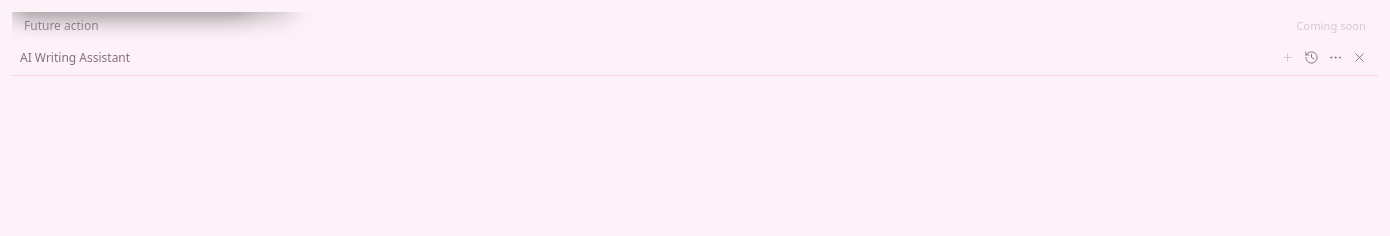
it: Agent reachable UI locale › renders slash commands, mentions, the header skill menu, and disabled menu copy in English
Click the button titled "More options": (1335, 58) [1326,48,1344,66]
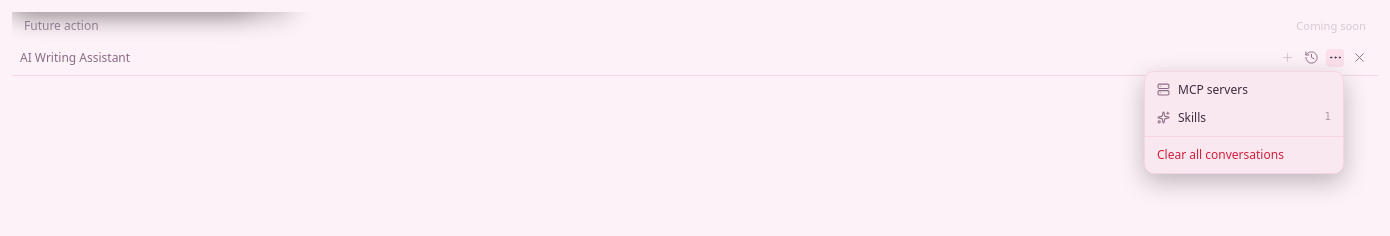
Expected: the button "Skills 1" is shown, [1145,104,1343,132]
Click the button "MCP servers": (1244, 90) [1145,76,1343,104]
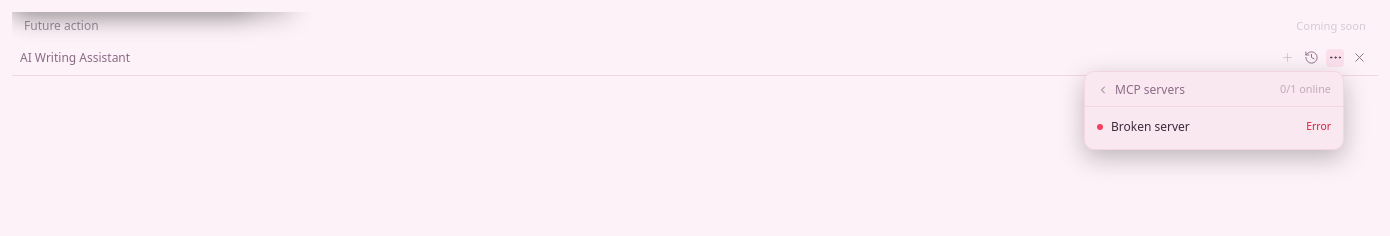
Expected: the text "Error" is shown, [1306,120,1331,134]
Click the button "MCP servers 0/1 online": (1214, 90) [1085,76,1343,104]
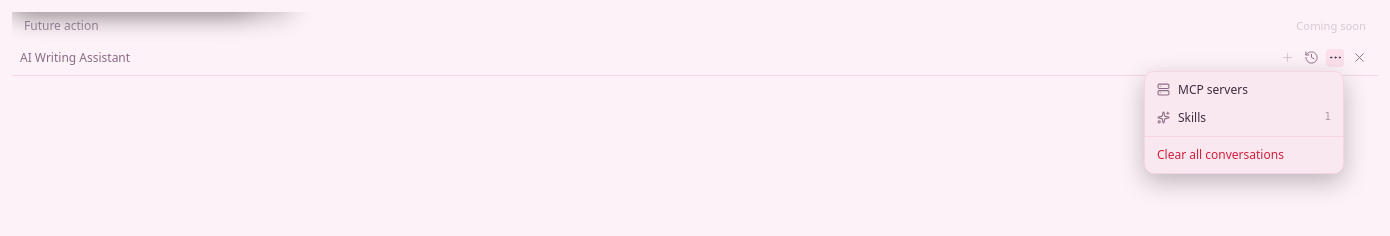
Click the button "Skills 1": (1244, 118) [1145,104,1343,132]
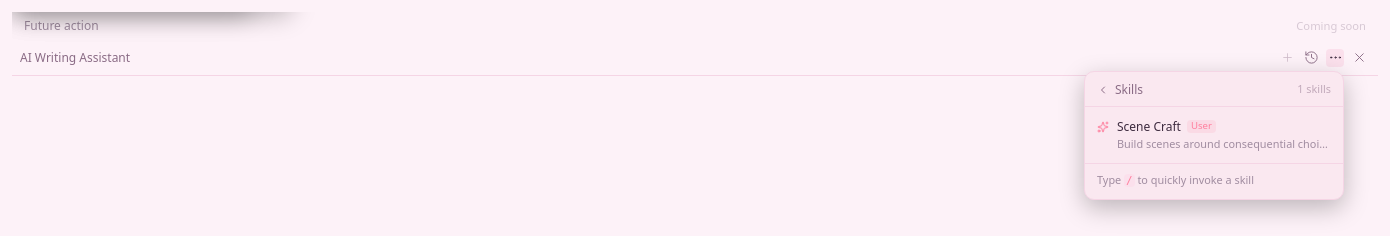
Expected: the text "Build scenes around consequential choices." is shown, [1117,136,1331,151]
Expected: the text "Scene Craft" is shown, [1117,118,1181,134]
